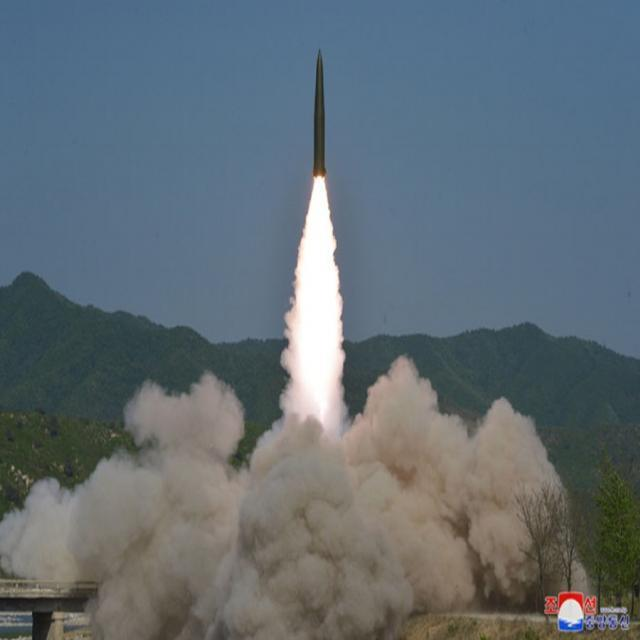Missile: (310, 40, 329, 181)
